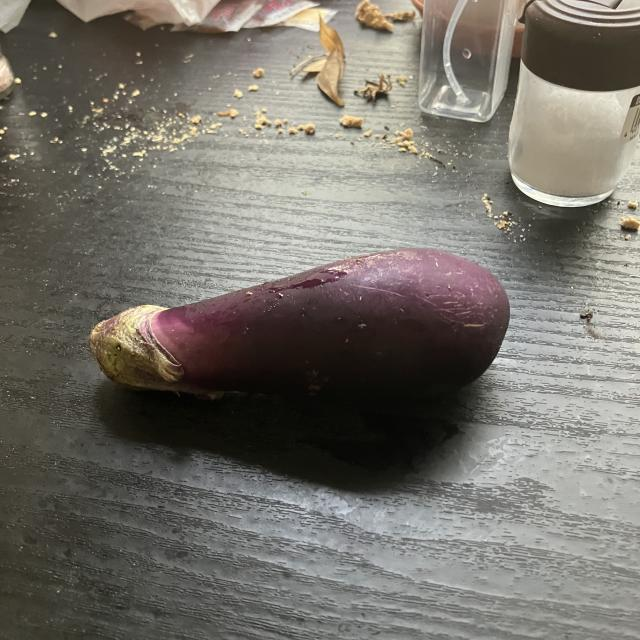eggplant: (88, 248, 512, 402)
